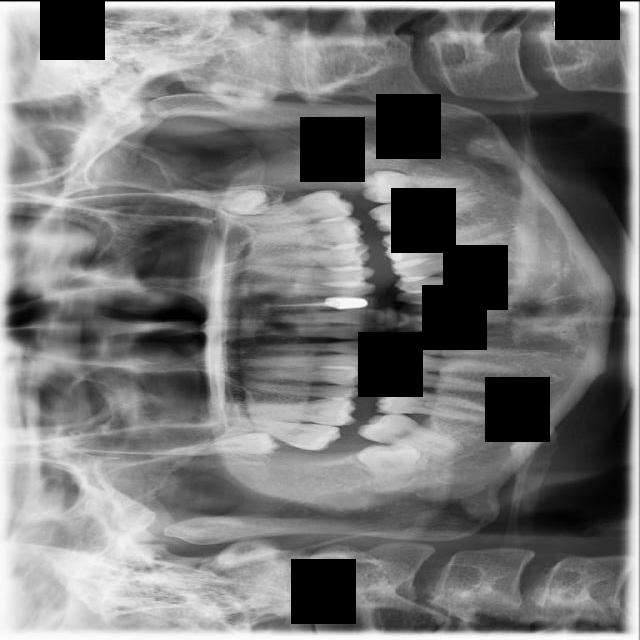3M ESPE Implant: (166, 431, 281, 456)
52: (325, 295, 378, 309)
73: (260, 296, 337, 310), (575, 40, 593, 44)
BioHorizons Implant: (235, 187, 355, 231)
BioLife Implant: (173, 188, 270, 215)
Biomet 3i Implant: (360, 168, 475, 208)
Blue Sky Bio Implant: (366, 188, 484, 242)
Caries: (227, 416, 342, 452)
Implant: (356, 404, 465, 459)
Keystone Dental Implant: (353, 420, 430, 496)
